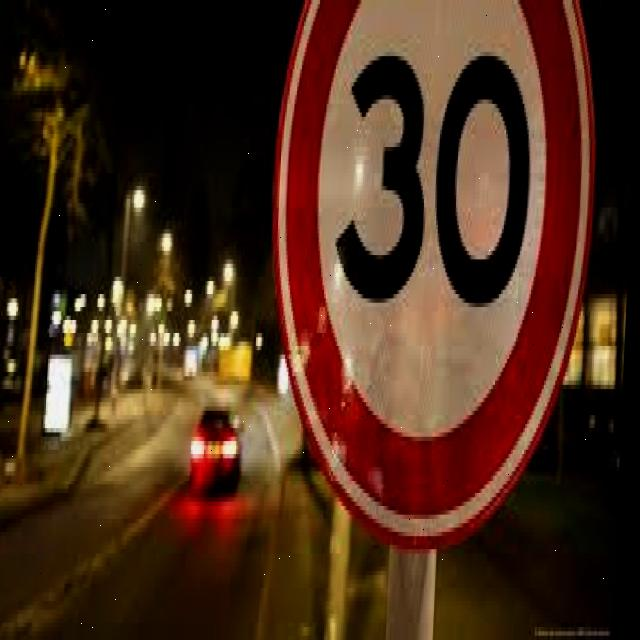Speed limit 30: (261, 1, 605, 550)
